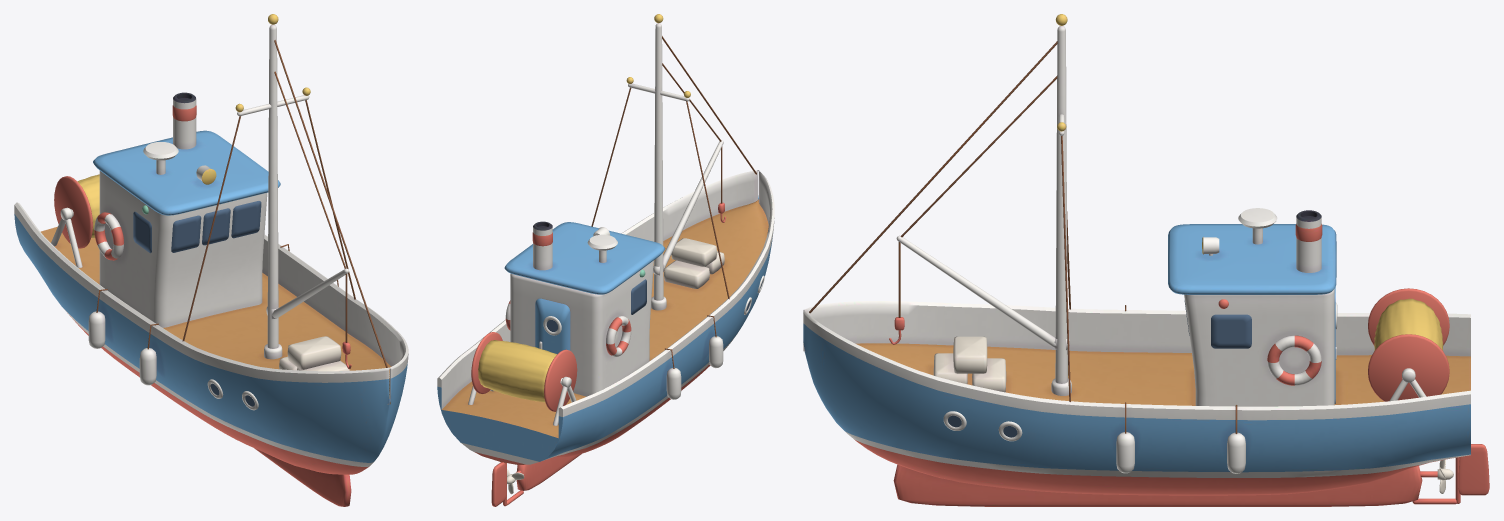
File: malpas-metal-boat-wreck.glb
3 renders of one model, left to right at view 1: azimuth 30°, elevation 25°; view 2: azimuth 150°, elevation 25°; view 3: azimuth 270°, elevation 25°, orthographic. The views are drawn at different scales.
Parts seen in each view (by area): view 1: fishing-boat_body, fishing-boat_windows, fishing-boat_net_drum, fishing-boat_portholes; view 2: fishing-boat_body, fishing-boat_net_drum, fishing-boat_rudder, fishing-boat_portholes, fishing-boat_windows; view 3: fishing-boat_body, fishing-boat_net_drum, fishing-boat_rudder, fishing-boat_windows, fishing-boat_portholes.
Boxes of the visible parts, x1=… form: fishing-boat_body: x1=14, y1=14, x2=408, y2=506; fishing-boat_windows: x1=133, y1=201, x2=261, y2=253; fishing-boat_net_drum: x1=54, y1=174, x2=99, y2=248; fishing-boat_portholes: x1=207, y1=379, x2=258, y2=410; fishing-boat_body: x1=437, y1=14, x2=774, y2=505; fishing-boat_net_drum: x1=471, y1=332, x2=577, y2=411; fishing-boat_rudder: x1=491, y1=462, x2=506, y2=506; fishing-boat_portholes: x1=543, y1=275, x2=764, y2=335; fishing-boat_windows: x1=631, y1=279, x2=646, y2=314; fishing-boat_body: x1=803, y1=14, x2=1470, y2=506; fishing-boat_net_drum: x1=1368, y1=288, x2=1449, y2=401; fishing-boat_rudder: x1=1455, y1=444, x2=1489, y2=503; fishing-boat_windows: x1=1184, y1=300, x2=1251, y2=348; fishing-boat_portholes: x1=943, y1=302, x2=1337, y2=441.
Size of the model in its own units: 3.12 by 6.35 by 8.05.
Materials: 11 (1 with a texture image).
